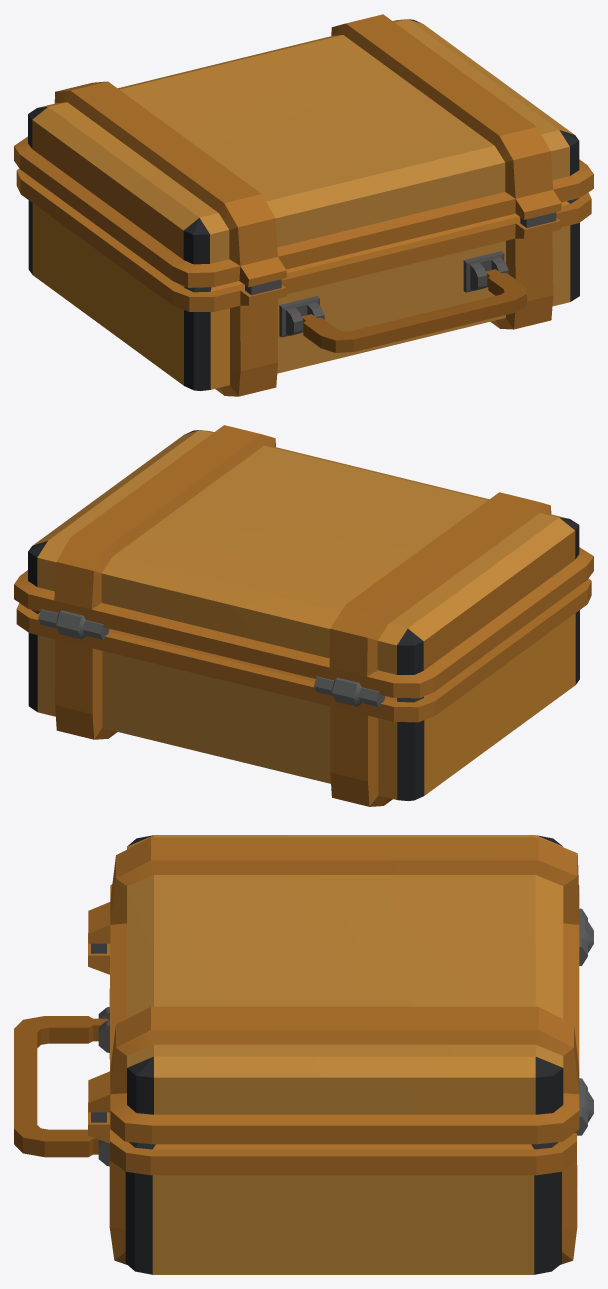
The model's file is SM_Prop_Forensics_Case_01.fbx.
3 views of the same model, one above another, from view 1: azimuth 30°, elevation 25°; view 2: azimuth 150°, elevation 25°; view 3: azimuth 270°, elevation 25° (orthographic). The views are drawn at different scales.
Parts seen in each view (by area): view 1: SM_Prop_Forensics_Case_01; view 2: SM_Prop_Forensics_Case_01; view 3: SM_Prop_Forensics_Case_01.
Boxes of the visible parts, box(x1,y1,x2,y2) form: SM_Prop_Forensics_Case_01: box(14, 14, 593, 396); SM_Prop_Forensics_Case_01: box(14, 425, 593, 806); SM_Prop_Forensics_Case_01: box(14, 835, 593, 1274).
Size of the model in its own units: 64.34 by 28.54 by 61.79.
